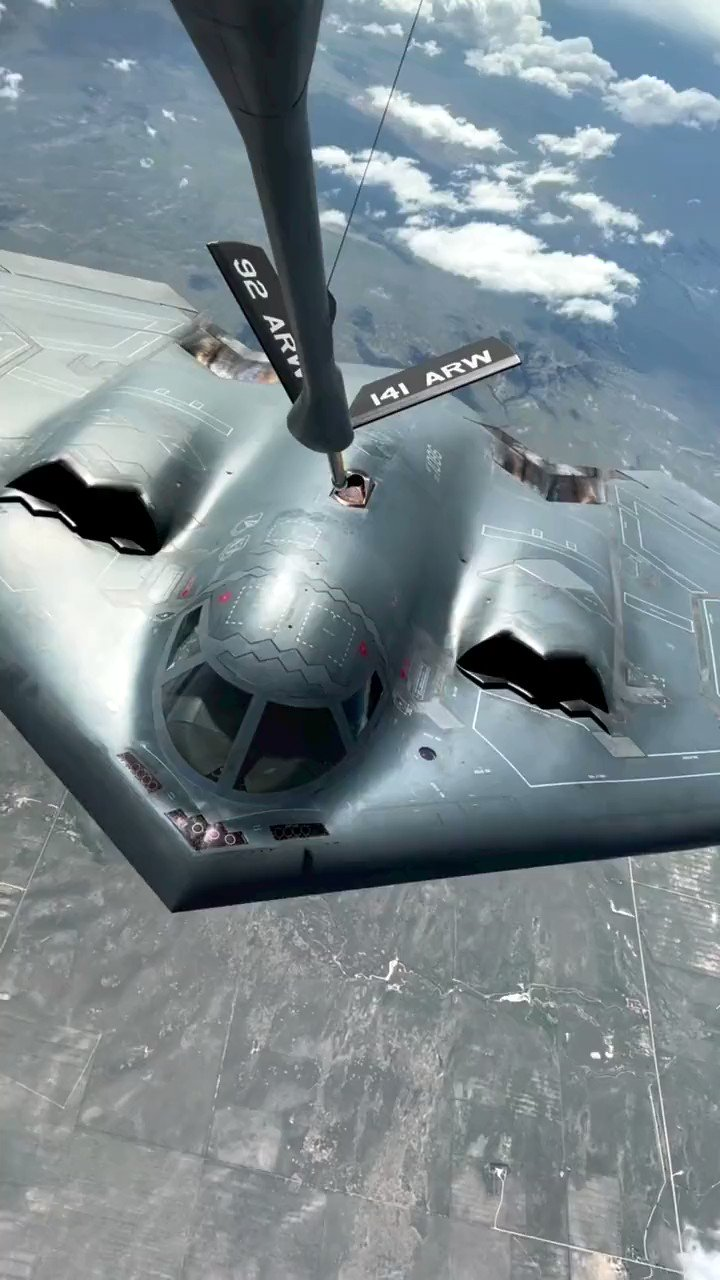B2: (1, 248, 720, 913)
